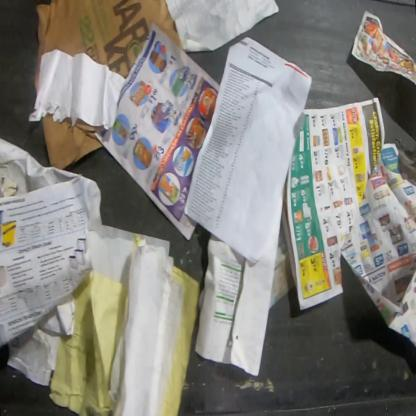cardboard: (34, 0, 185, 93), (41, 114, 106, 171)
